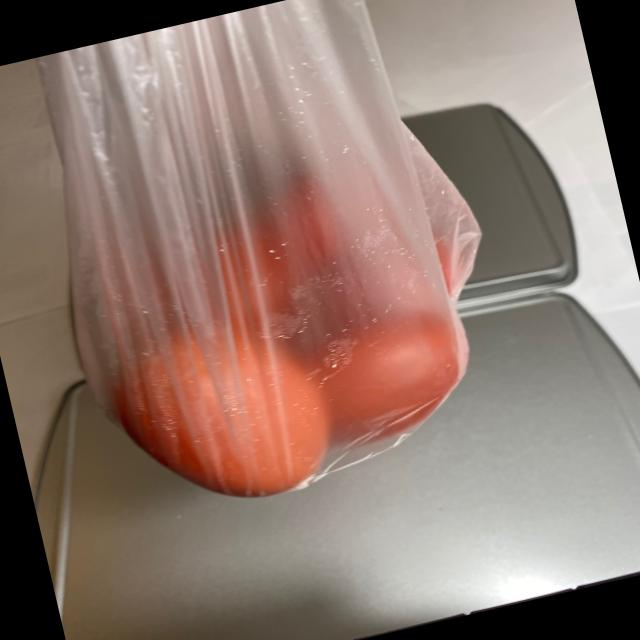tomato: (63, 102, 526, 523)
